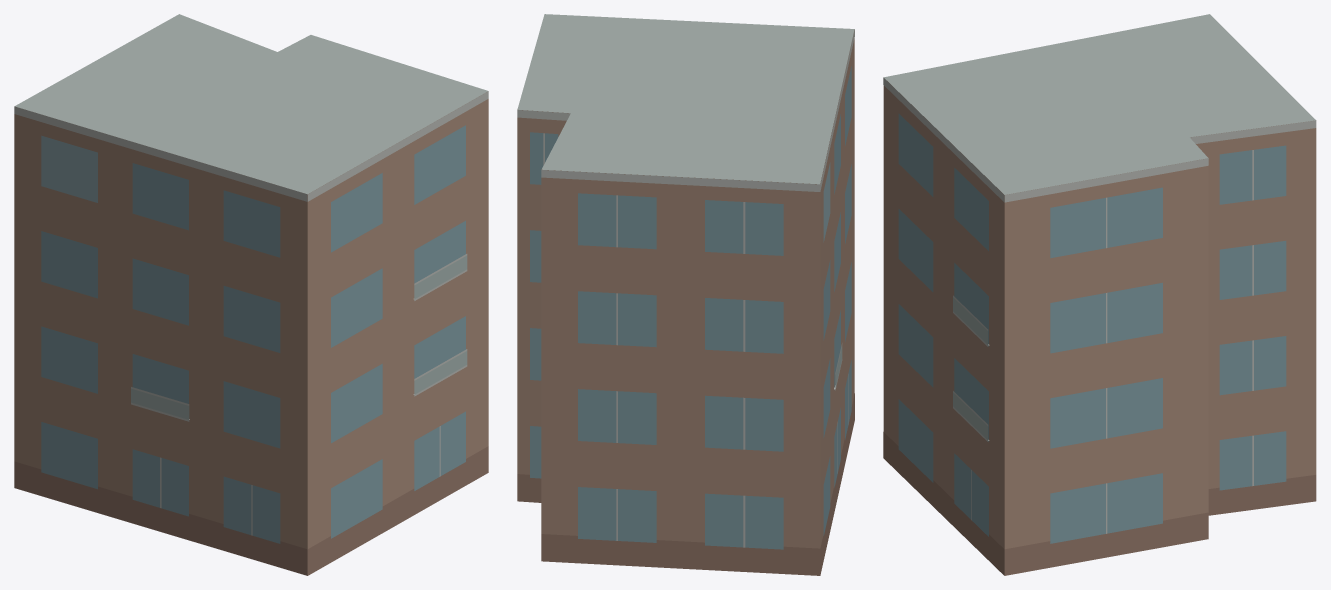
File: survey-upis-32537815.glb
3 renders of one model, left to right at view 1: azimuth 30°, elevation 25°; view 2: azimuth 150°, elevation 25°; view 3: azimuth 270°, elevation 25°, orthographic. The views are drawn at different scales.
Visible parts, largest first — view 1: survey-upis-32537815.tmp; view 2: survey-upis-32537815.tmp; view 3: survey-upis-32537815.tmp.
Boxes of the visible parts, box(x1,y1,x2,y2) form: survey-upis-32537815.tmp: box(14, 14, 488, 575); survey-upis-32537815.tmp: box(517, 14, 854, 575); survey-upis-32537815.tmp: box(883, 14, 1316, 575).
Bounding box in the file's own units: 12.44 × 12.2 × 12.58.
